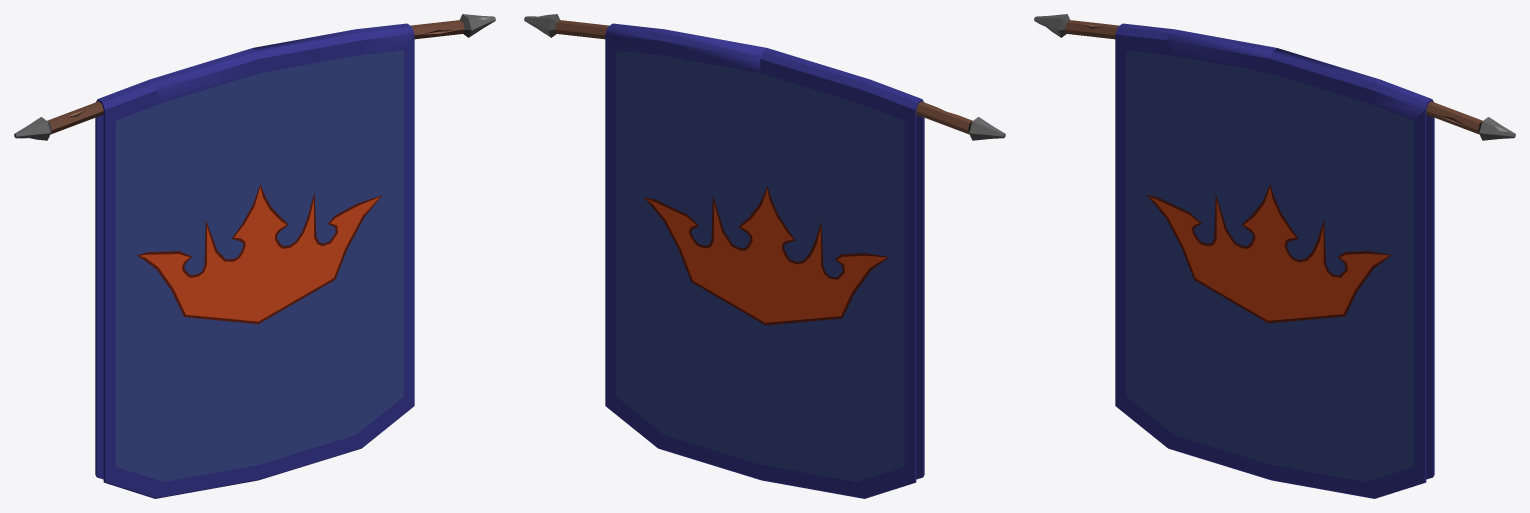
File: FlagWall_01.glb
3 views of the same model, side by side, from view 1: azimuth 30°, elevation 25°; view 2: azimuth 150°, elevation 25°; view 3: azimuth 330°, elevation 25° (orthographic).
Parts seen in each view (by area): view 1: FlagWall_01; view 2: FlagWall_01; view 3: FlagWall_01.
Part boxes in pixels (left/top/right/bottom): FlagWall_01: left=14, top=14, right=495, bottom=498; FlagWall_01: left=524, top=14, right=1005, bottom=498; FlagWall_01: left=1034, top=14, right=1515, bottom=498.
Size of what is drawn, in the model's own units: 1.98 by 1.69 by 0.0886.
Materials: 1 (1 with a texture image).
